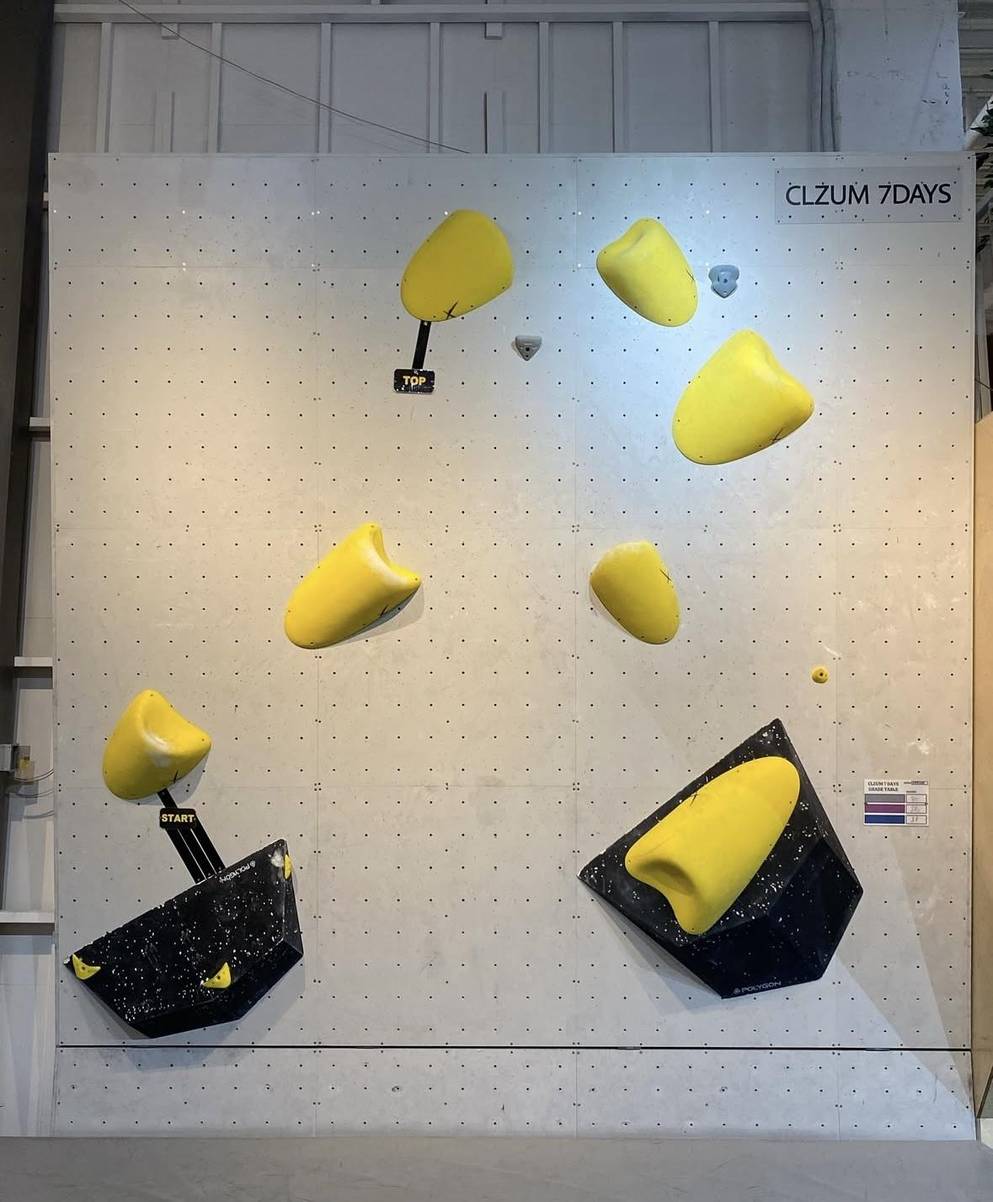hold: (624, 756, 798, 933), (673, 330, 814, 465), (284, 523, 421, 648), (400, 209, 513, 322), (102, 689, 212, 801), (596, 220, 697, 327), (590, 542, 680, 644), (707, 264, 738, 298), (68, 954, 99, 980), (513, 335, 542, 361), (203, 963, 231, 988), (812, 665, 829, 683), (284, 854, 291, 879)
volume: (580, 720, 862, 998), (63, 841, 301, 1037)
